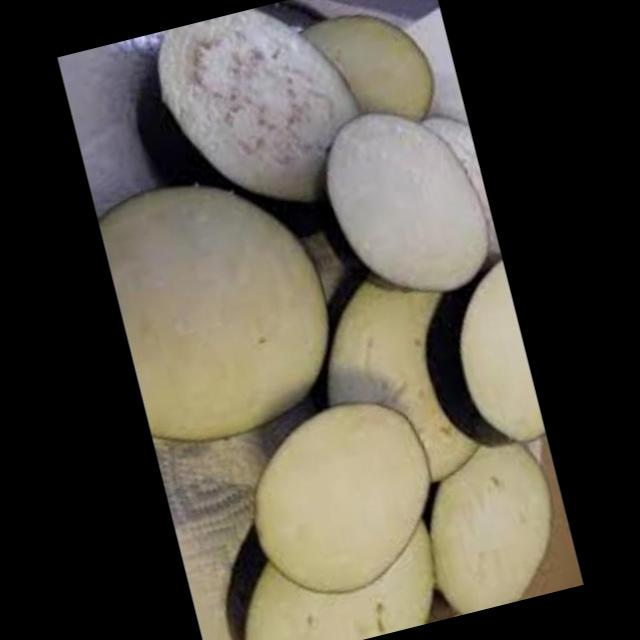eggplant: (97, 143, 353, 460), (131, 0, 389, 250), (280, 243, 507, 517), (238, 388, 461, 608), (294, 79, 503, 312), (207, 476, 455, 640), (396, 233, 550, 470), (402, 421, 584, 619), (295, 0, 452, 147)
